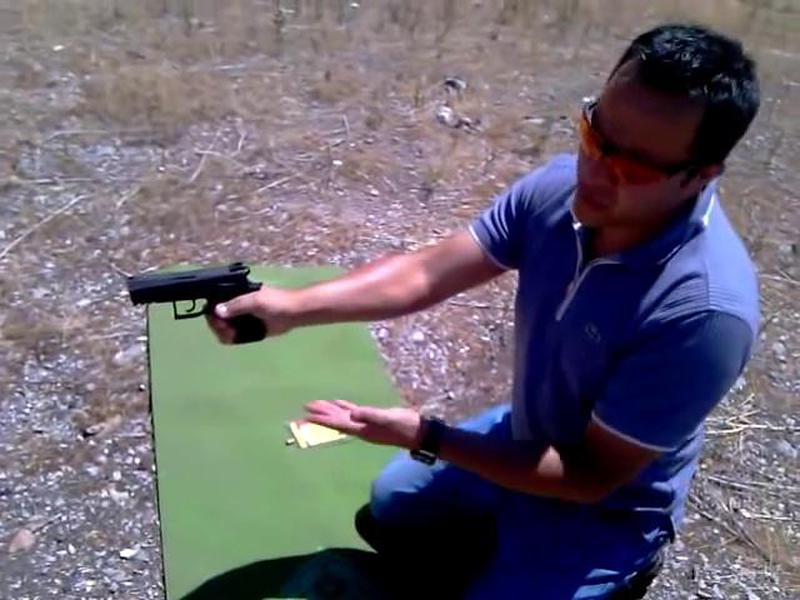Pistola: (119, 239, 287, 359)
